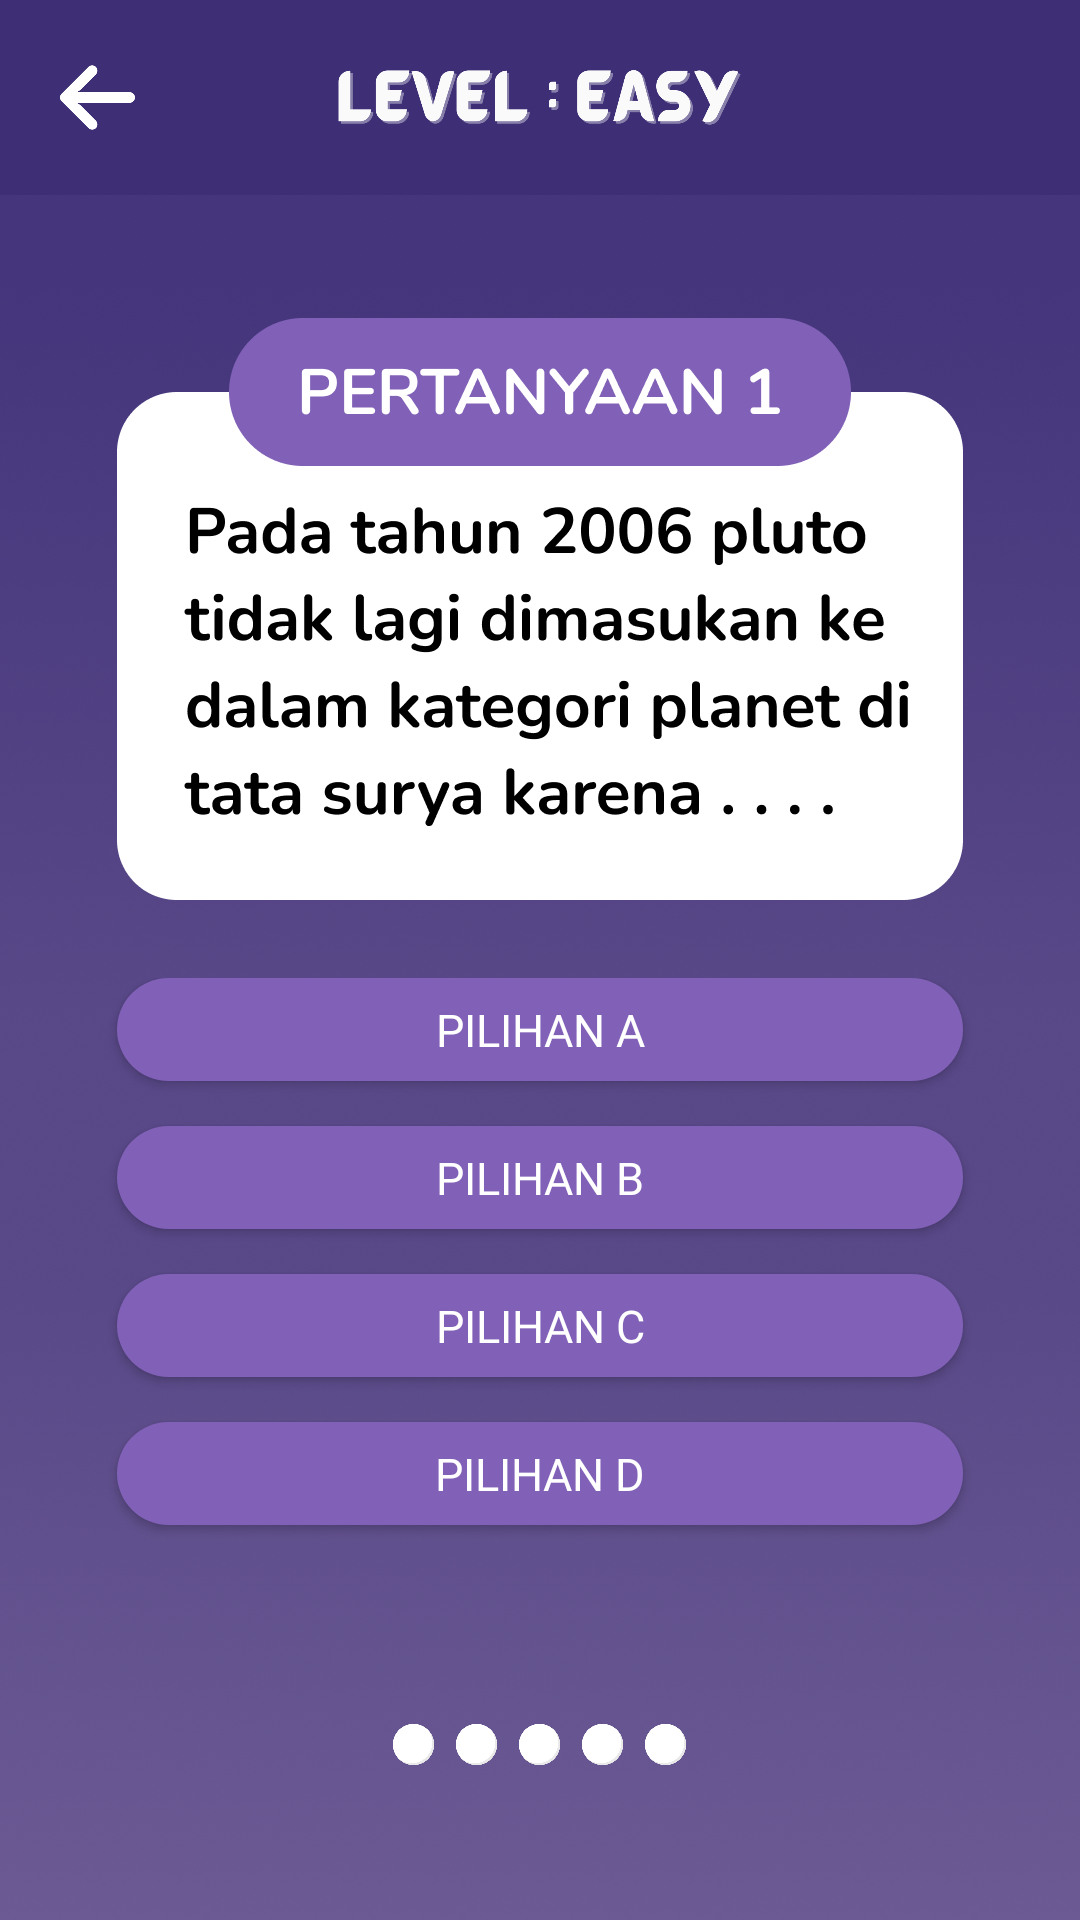

Named icons in this screenshot (1080×1920) and their bounding boxes, box(x1, y1, x2, y2):
back: box(60, 65, 135, 130)
